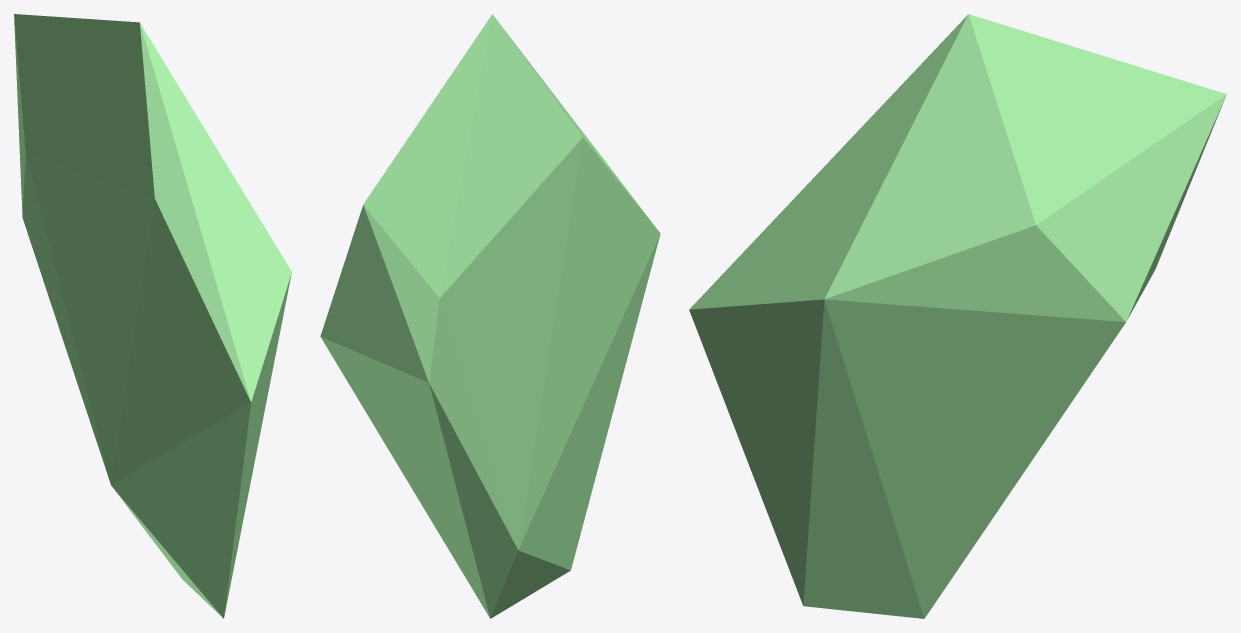
File: linkhou_LR4_R560_link4_respondable_coll_4.dae
3 views of the same model, side by side, from view 1: azimuth 30°, elevation 25°; view 2: azimuth 150°, elevation 25°; view 3: azimuth 270°, elevation 25° (orthographic). The views are drawn at different scales.
Visible parts, largest first — view 1: Node_00000209DB3AC2E0; view 2: Node_00000209DB3AC2E0; view 3: Node_00000209DB3AC2E0.
Boxes of the visible parts, <box> form: Node_00000209DB3AC2E0: <box>14,14,291,618</box>; Node_00000209DB3AC2E0: <box>320,14,660,618</box>; Node_00000209DB3AC2E0: <box>689,14,1226,618</box>.
Size of the model in its own units: 0.0067 by 0.0293 by 0.0241.
